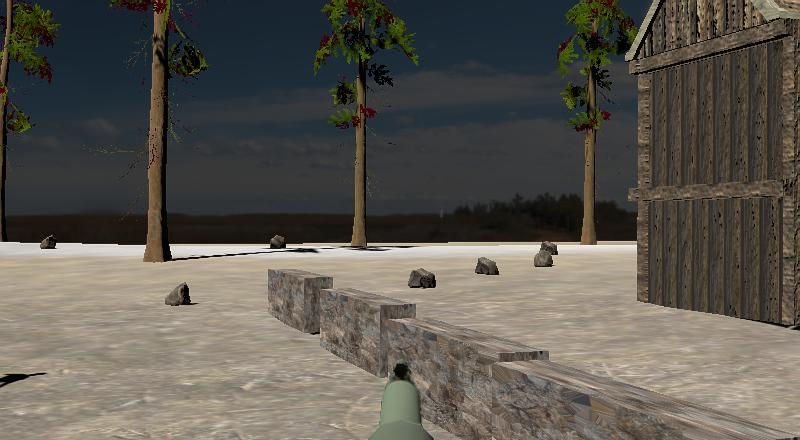House: (625, 0, 800, 325)
